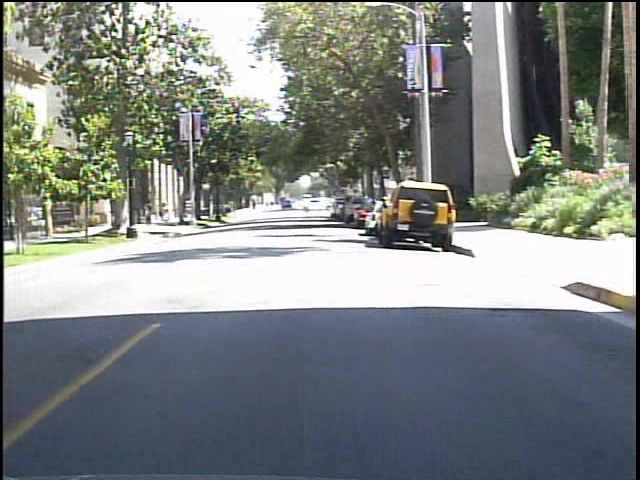person: (148, 196, 168, 228), (131, 194, 148, 228)
